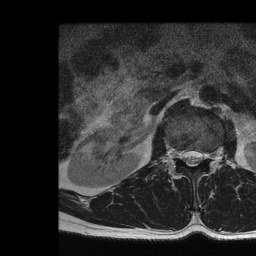CCS_normal: (188, 141, 195, 175)
LFS_stenosis: (204, 144, 212, 165)
LLS_normal: (194, 142, 204, 169)
RFS_normal: (172, 142, 179, 166)
RLS_normal: (179, 143, 188, 168)
